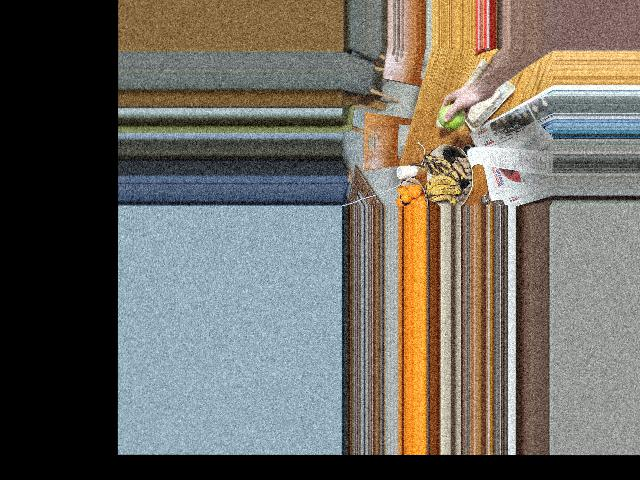apple: (438, 102, 465, 129)
